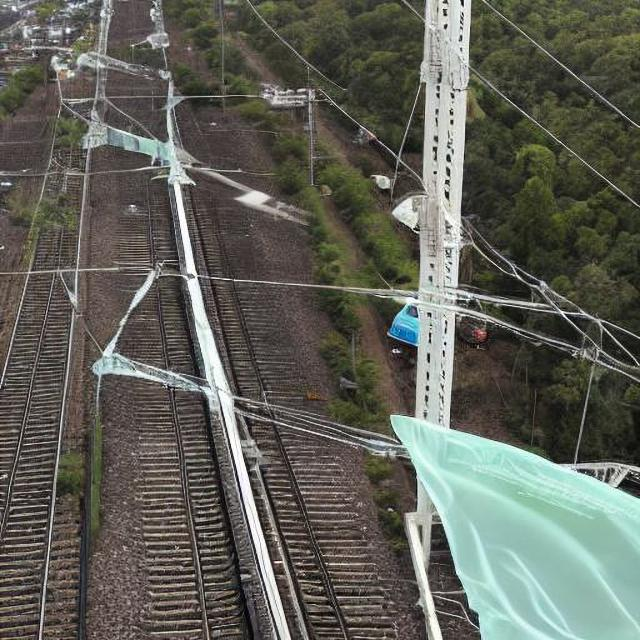floating object: (395, 414, 638, 634), (386, 299, 421, 347)
